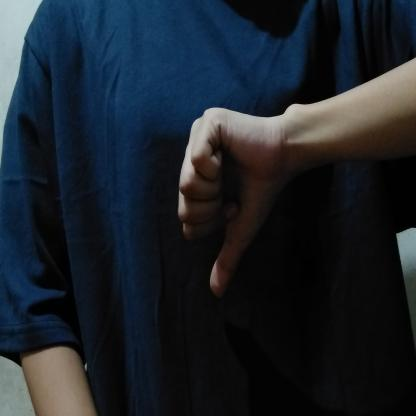no: (170, 100, 307, 304)
